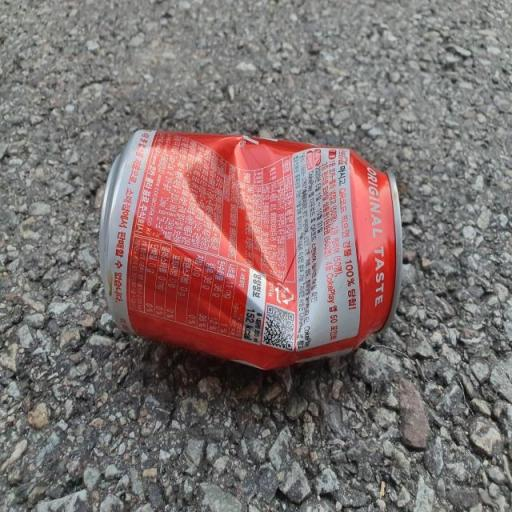metal: (64, 92, 441, 418)
